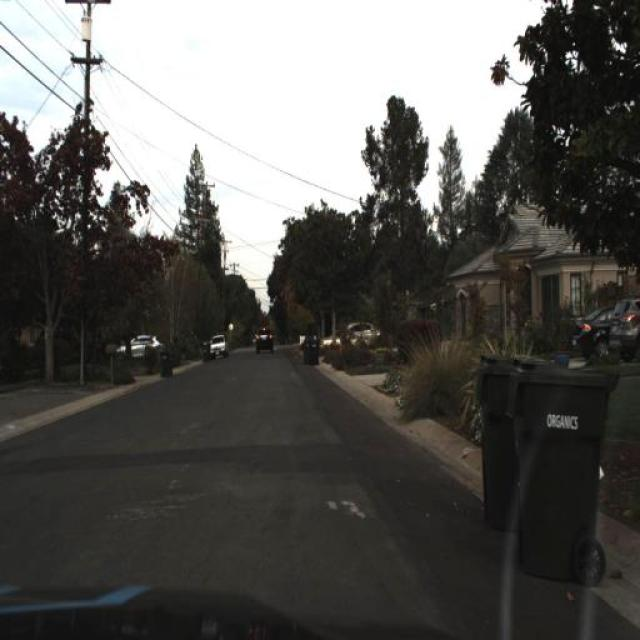car: (111, 328, 170, 367), (319, 322, 367, 361), (349, 310, 379, 340), (206, 330, 232, 364), (253, 323, 275, 356), (208, 332, 227, 358)
